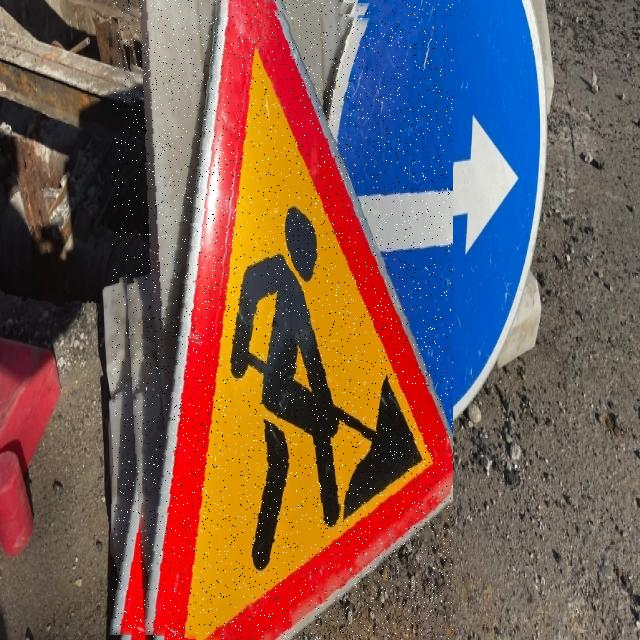roadwork: (112, 0, 453, 640)
